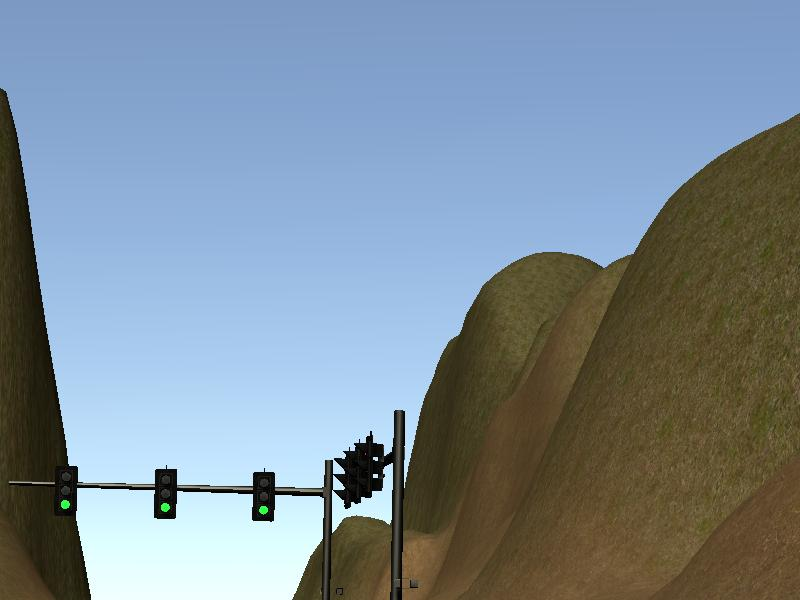Green: (55, 467, 79, 515), (154, 470, 175, 518), (254, 471, 274, 520)
